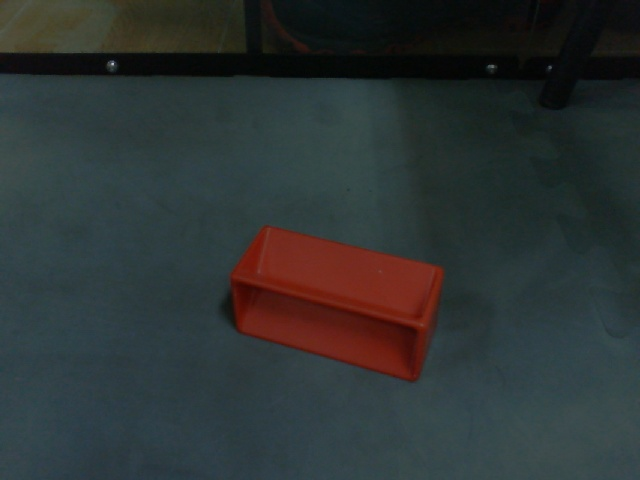RedSample: (227, 223, 445, 386)
